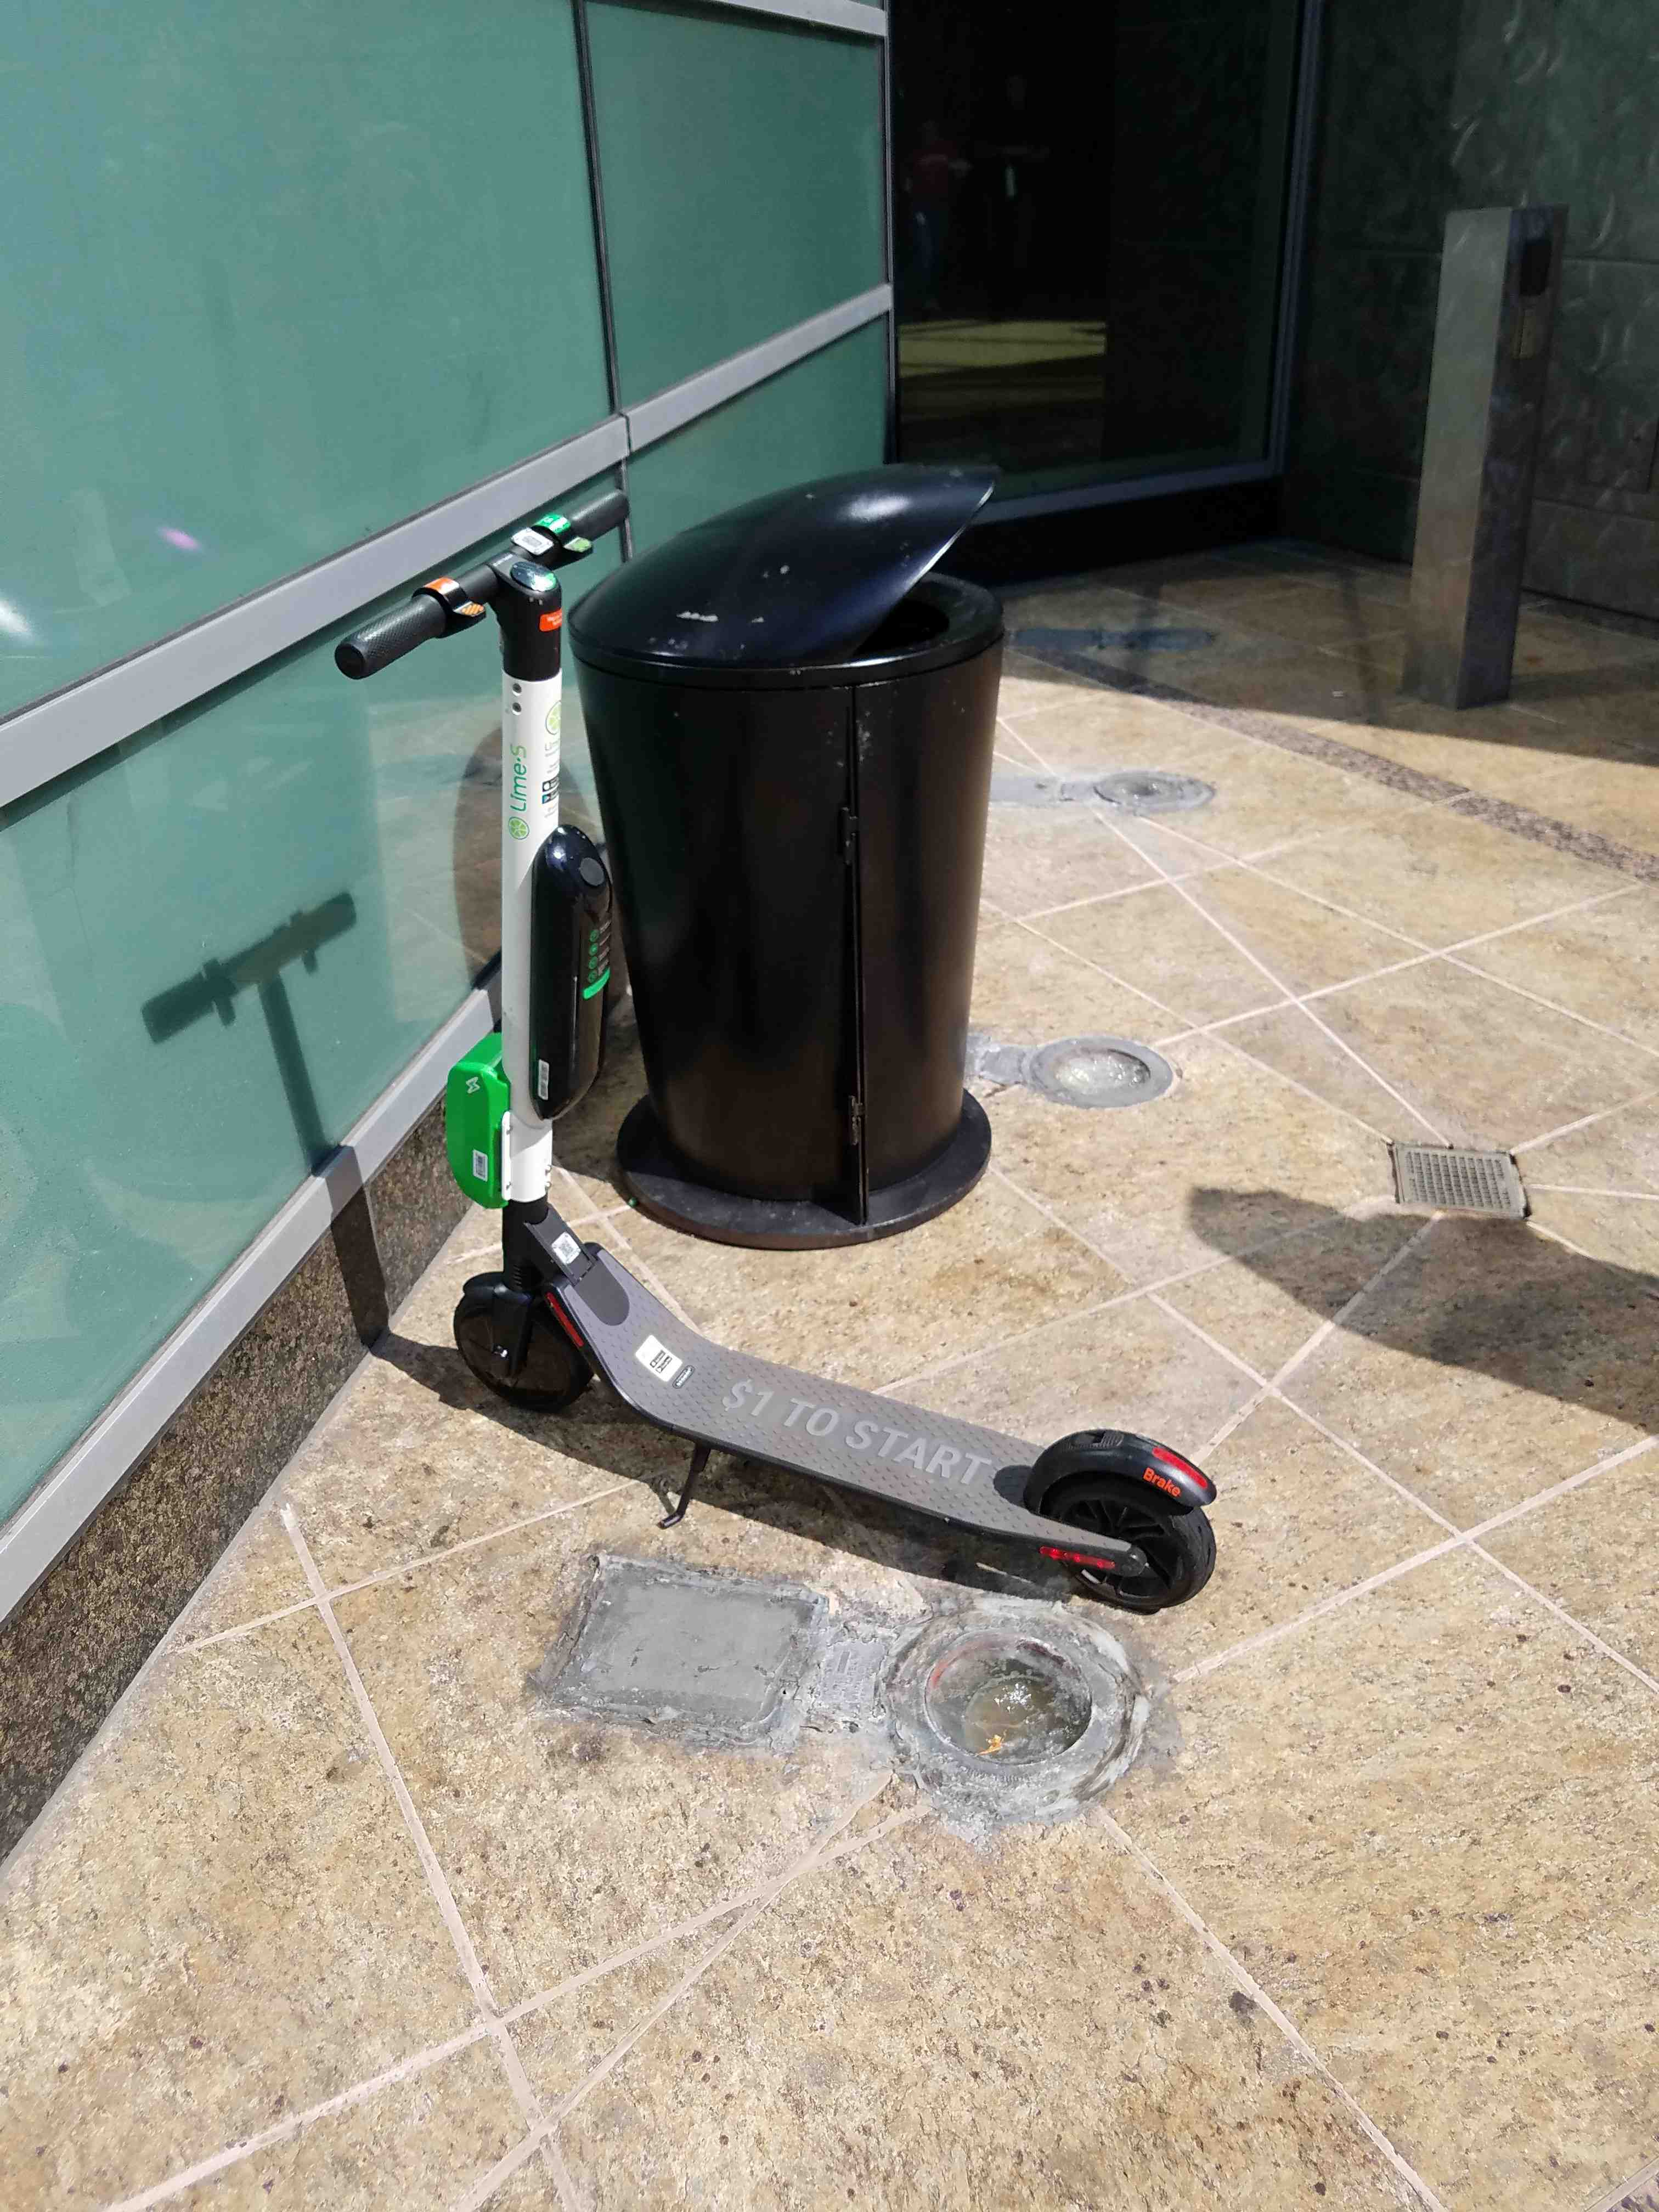scooter: (291, 482, 1229, 1629)
